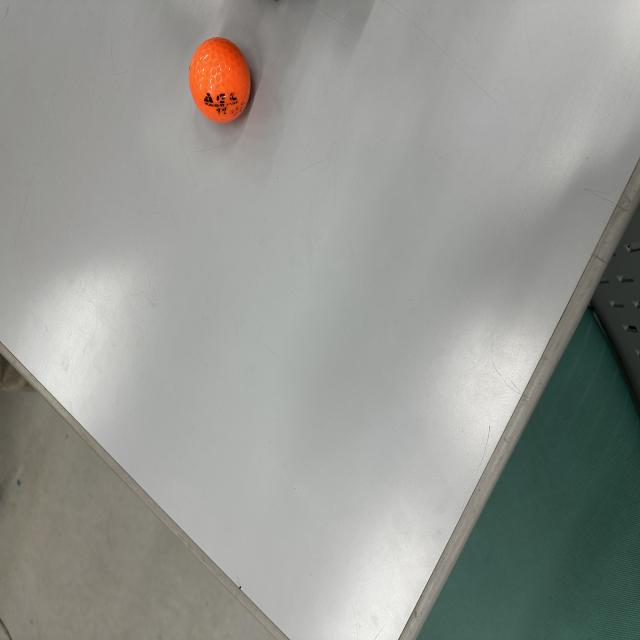ball: (187, 36, 258, 127)
